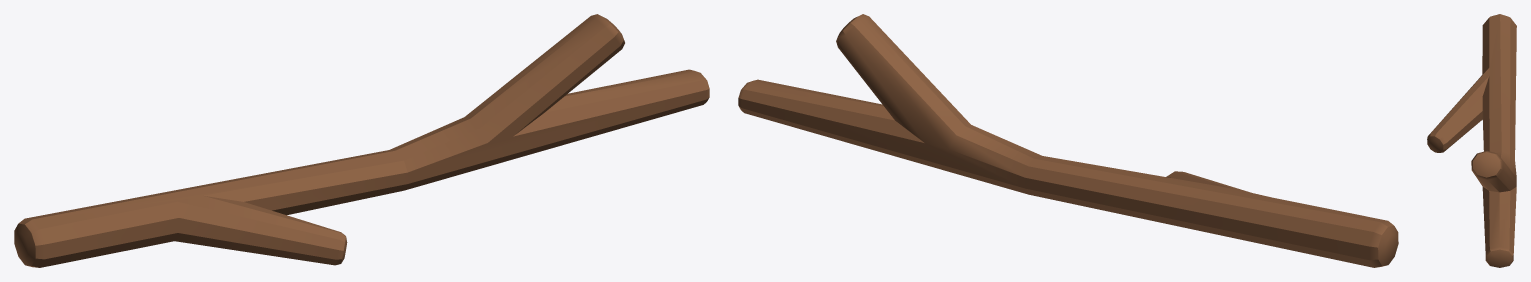
The model's file is stick_low.fbx.
The picture shows the model from 3 angles, left to right: view 1: azimuth 30°, elevation 25°; view 2: azimuth 150°, elevation 25°; view 3: azimuth 270°, elevation 25°; orthographic projection. The views are drawn at different scales.
Visible parts, largest first — view 1: stick_lod0; view 2: stick_lod0; view 3: stick_lod0.
Part boxes in pixels (<box>): stick_lod0: <box>14,14,709,267</box>; stick_lod0: <box>738,14,1398,267</box>; stick_lod0: <box>1427,14,1516,267</box>.
Bounding box in the file's own units: 267 × 55.67 × 44.43.
